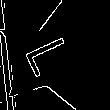L_NE: (22, 32, 81, 82)
